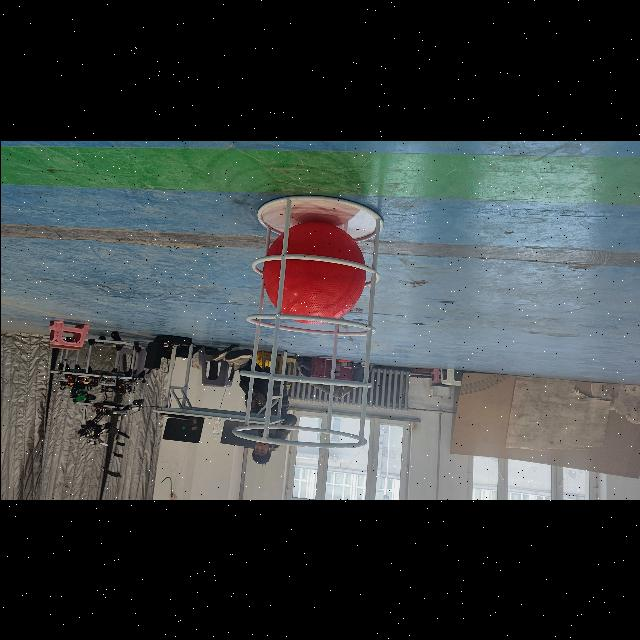R: (262, 220, 364, 324)
S: (226, 187, 388, 455)
